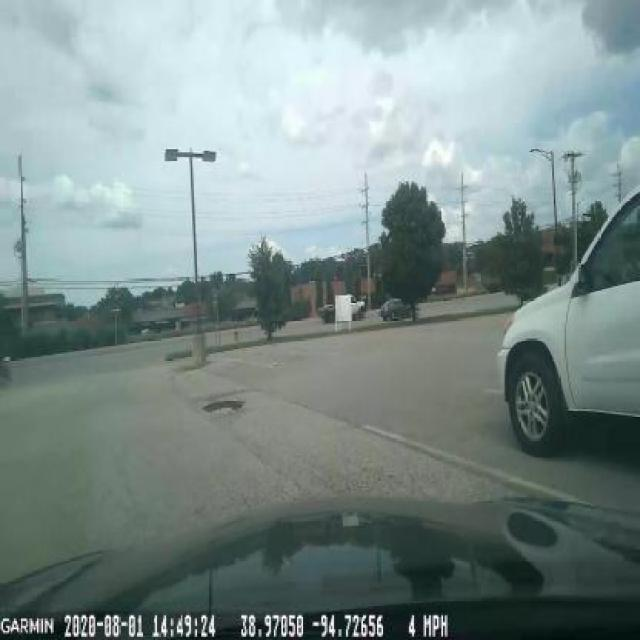Pothole: (188, 388, 250, 418)
